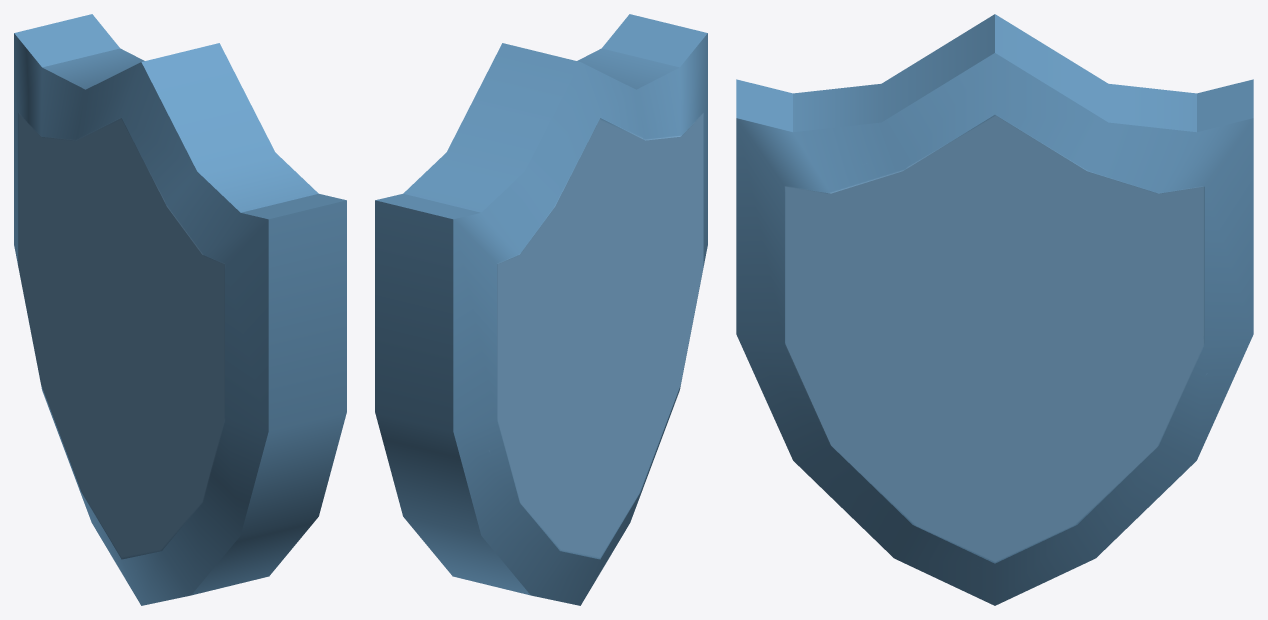
File: armor.fbx
The picture shows the model from 3 angles, left to right: view 1: azimuth 30°, elevation 25°; view 2: azimuth 150°, elevation 25°; view 3: azimuth 270°, elevation 25°; orthographic projection.
Parts seen in each view (by area): view 1: pCube1; view 2: pCube1; view 3: pCube1.
Boxes of the visible parts, x1,y1,x2,y2 form: pCube1: (14,14,346,605); pCube1: (375,14,707,605); pCube1: (736,14,1253,605).
Size of the model in its own units: 10.6 by 46.86 by 39.73.
1 material, 1 textured.
